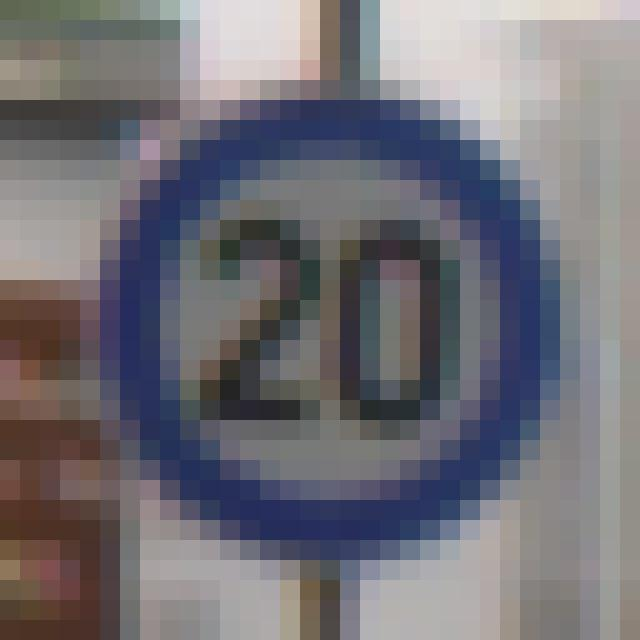SPEED LIMIT 20: (96, 80, 584, 566)
